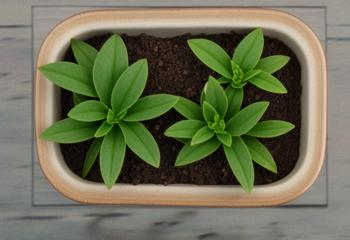pottedplant: (31, 6, 327, 208)
